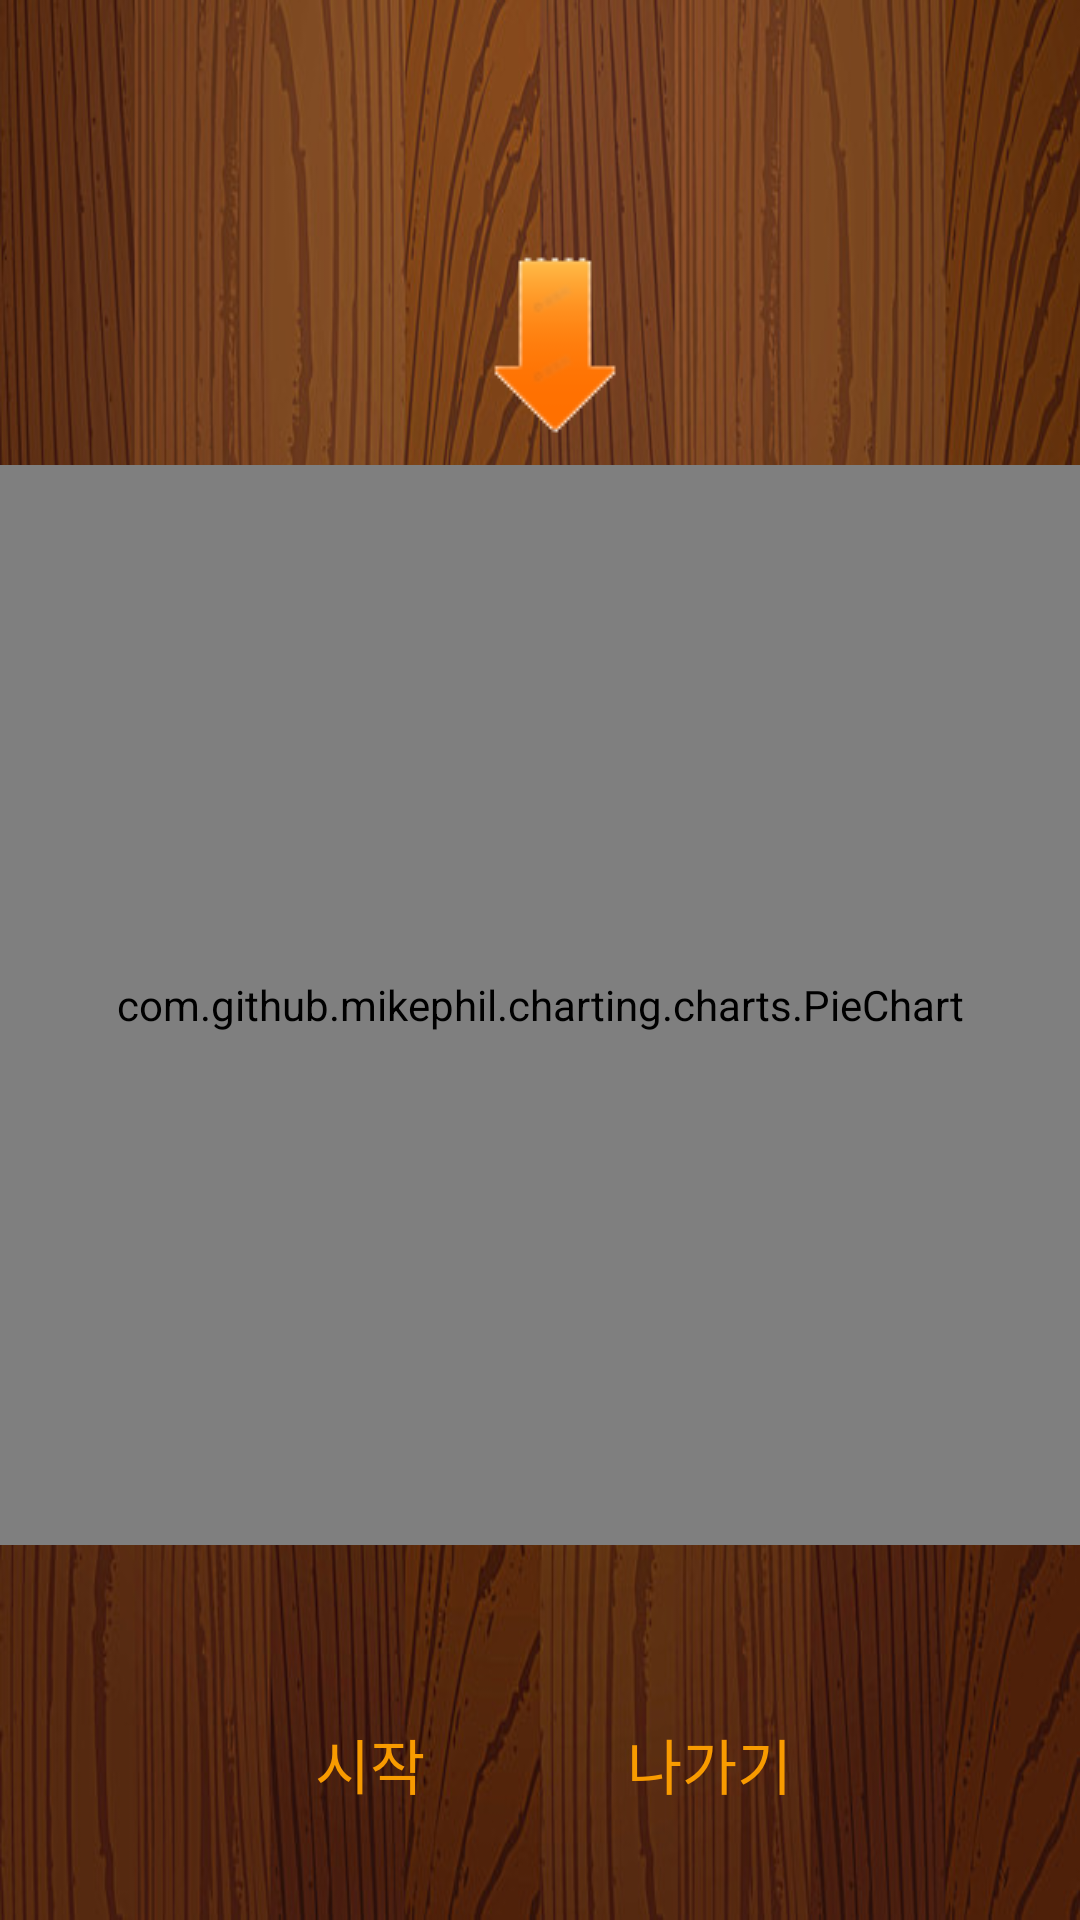

Screen size 1080x1920. Icon name, then its center in pixels as [x,y]:
arrow: [540,330]
